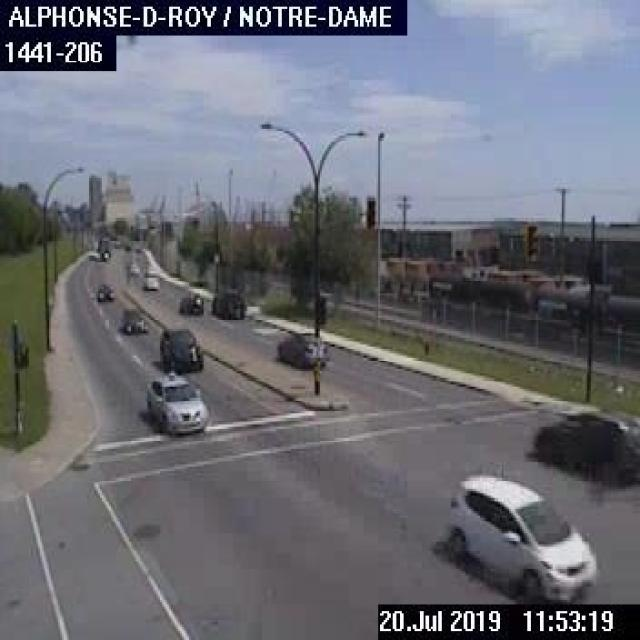vehicle: (444, 471, 596, 602), (531, 406, 638, 484), (144, 370, 208, 431), (156, 325, 202, 371), (274, 329, 326, 367), (210, 289, 249, 318), (175, 288, 202, 315), (120, 307, 147, 333), (140, 268, 160, 289), (94, 235, 109, 260), (95, 282, 113, 300), (126, 262, 138, 274)
